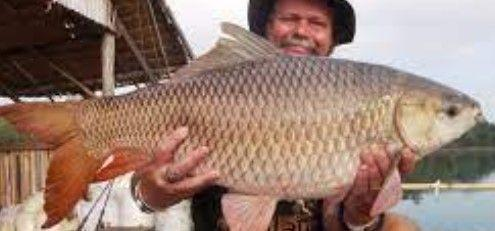Indian Carp: (6, 20, 485, 231)
